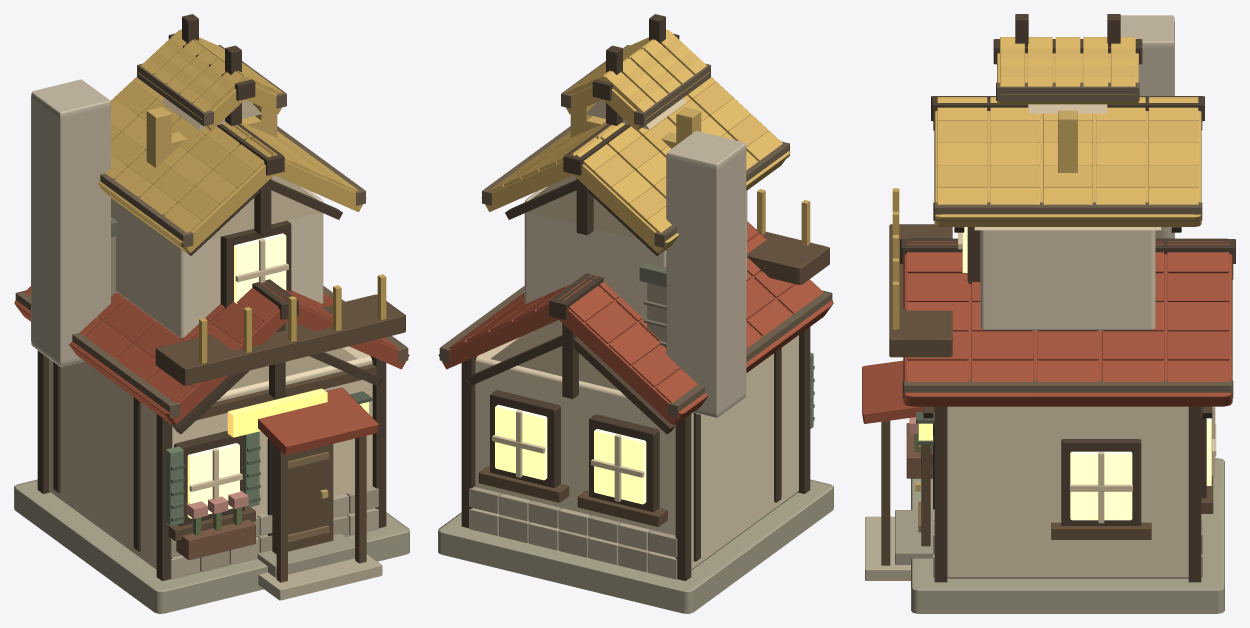
File: workshop-4.glb
3 renders of one model, left to right at view 1: azimuth 30°, elevation 25°; view 2: azimuth 150°, elevation 25°; view 3: azimuth 270°, elevation 25°, orthographic. The views are drawn at different scales.
Parts seen in each view (by area): view 1: workshop-0-4, door-hinge; view 2: workshop-0-4; view 3: workshop-0-4, door-hinge.
Boxes of the visible parts, x1,y1,x2,y2 form: workshop-0-4: [14, 14, 409, 613]; door-hinge: [272, 443, 333, 554]; workshop-0-4: [438, 14, 833, 613]; workshop-0-4: [862, 14, 1235, 613]; door-hinge: [915, 424, 930, 546].
Bounding box in the file's own units: 1.91 × 3.51 × 2.24.
